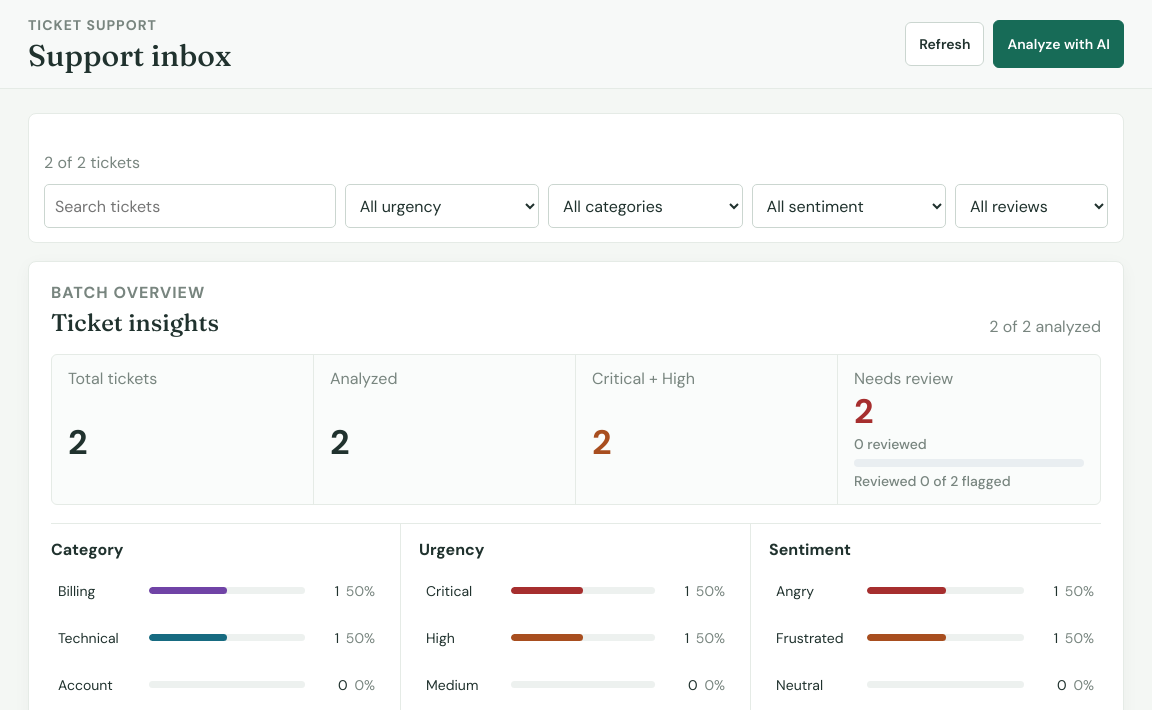
Test: App › shows batch analytics and applies a chart selection to the list
Expected: the text "Total tickets" is shown, [68,368,157,389]
Expected: the text "Critical + High" is shown, [592,368,695,389]
What coordinates should you click on to do the following:
click the button "Billing 1 50%"
I would click on:
 (216, 590)
Its box is [51,568,382,612].
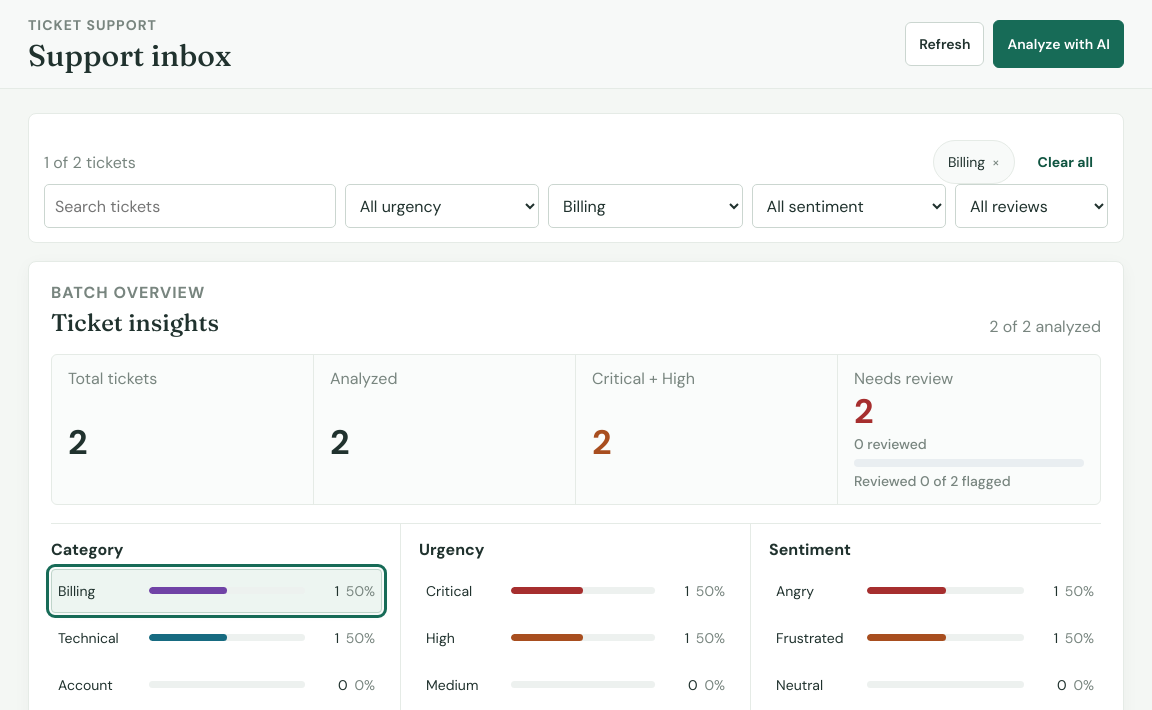
Now the dropdown named "Filter by category" shows "Billing", box [548,184,742,228]
Now the text "1 of 2 tickets" is shown, box [44,152,136,172]
